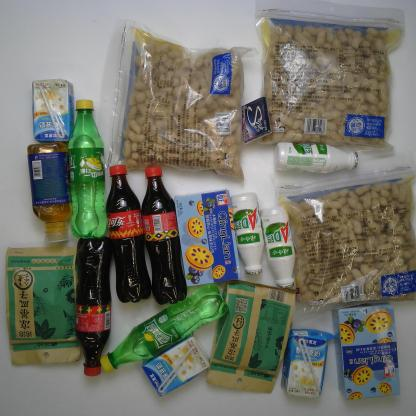Dessert: (330, 295, 403, 408), (165, 186, 244, 290)
Dried Food: (86, 8, 264, 179), (248, 6, 402, 158), (257, 171, 416, 309), (6, 235, 90, 378), (212, 270, 301, 404)
Drink: (101, 280, 237, 376), (131, 160, 193, 306), (96, 156, 153, 308), (16, 132, 84, 250), (71, 227, 119, 386), (67, 91, 111, 244)
Gum: (233, 91, 274, 151)
Milk: (250, 196, 313, 289), (269, 130, 371, 182), (280, 318, 335, 404), (144, 334, 215, 394), (26, 64, 76, 146), (224, 185, 265, 281)
